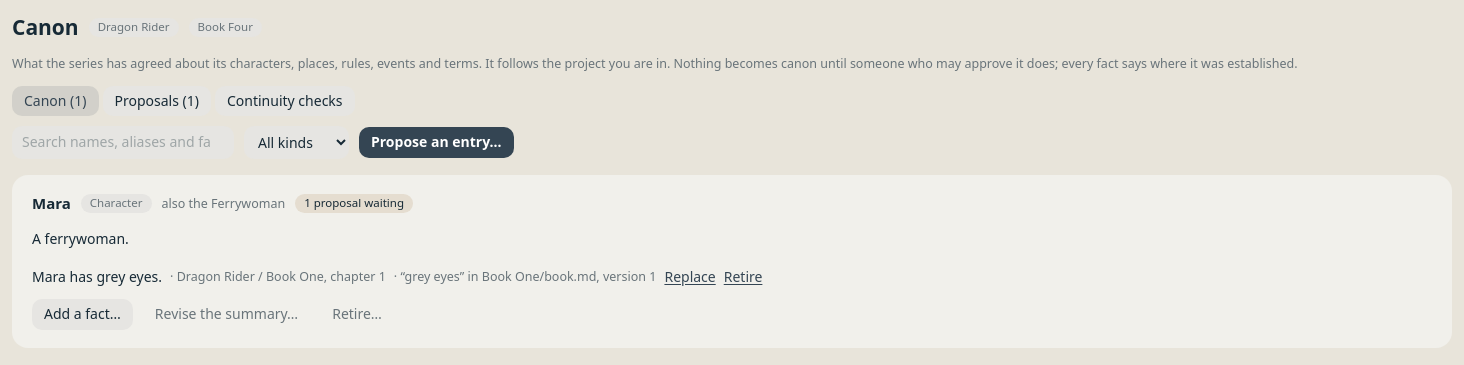
Test: following the project in view › starts a check on the book in view, offering only its own manuscripts
The image size is (1464, 365).
Click the tab "Continuity checks" at (285,101), box [215,86,355,116]
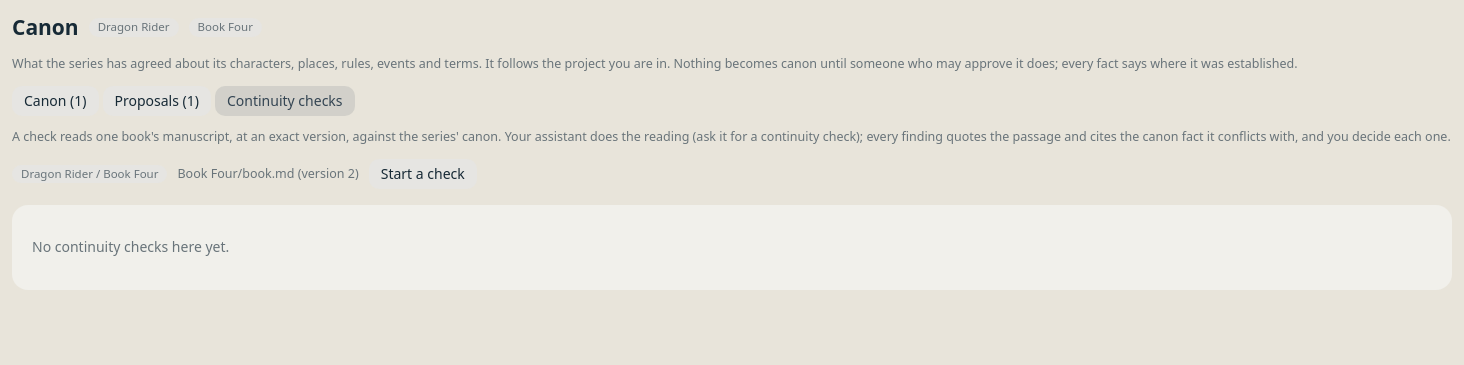
Check: the button "Start a check" is enabled, box [369,159,477,189]
Check: the form shows "Book Four/book.md (version 2)", box [12,159,477,189]
Check: the text "Book One/book.md" is gone
